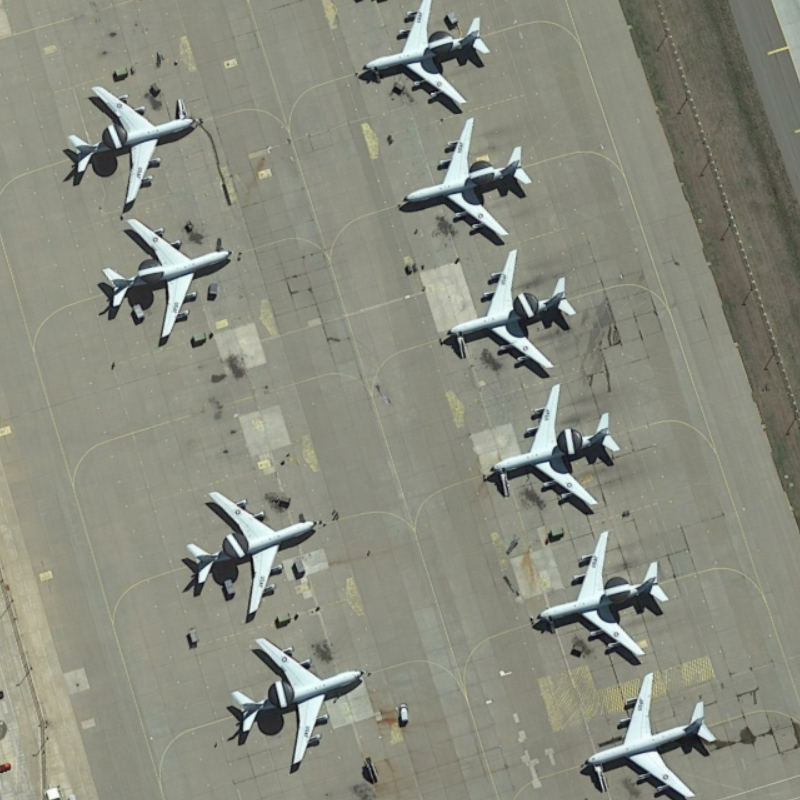A7: (527, 523, 676, 665), (57, 74, 210, 211), (180, 479, 326, 622), (485, 377, 624, 520), (230, 633, 366, 778), (584, 667, 731, 800), (394, 113, 537, 246), (441, 244, 579, 379), (98, 216, 236, 347), (345, 1, 490, 116)
